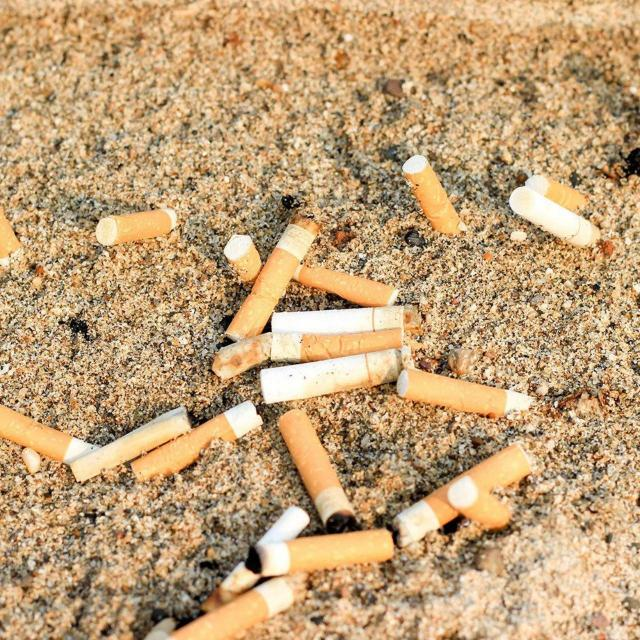cigarette: (385, 432, 539, 544), (216, 219, 326, 356), (130, 386, 262, 488), (256, 332, 412, 412), (376, 352, 546, 424), (62, 394, 184, 489), (150, 568, 304, 640), (206, 499, 302, 611), (270, 409, 358, 529), (244, 518, 396, 576), (500, 179, 614, 254), (396, 147, 470, 250), (302, 242, 408, 310), (439, 476, 534, 546), (0, 386, 74, 470), (86, 204, 190, 254), (264, 326, 416, 359), (212, 218, 270, 300), (512, 162, 600, 216), (260, 306, 406, 334), (200, 329, 272, 380), (0, 196, 36, 275)
